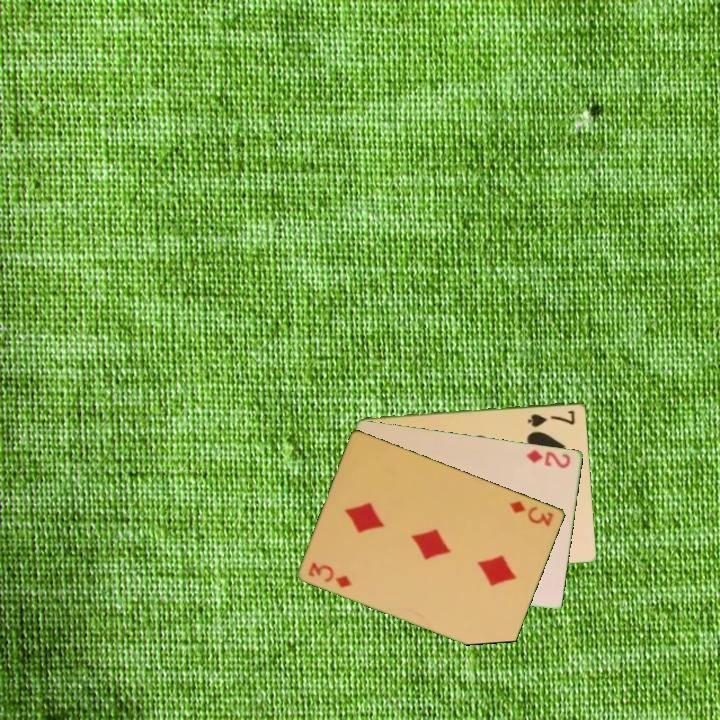2d: (523, 446, 573, 471)
3d: (305, 559, 356, 591), (507, 497, 557, 529)
7s: (524, 406, 578, 430)
